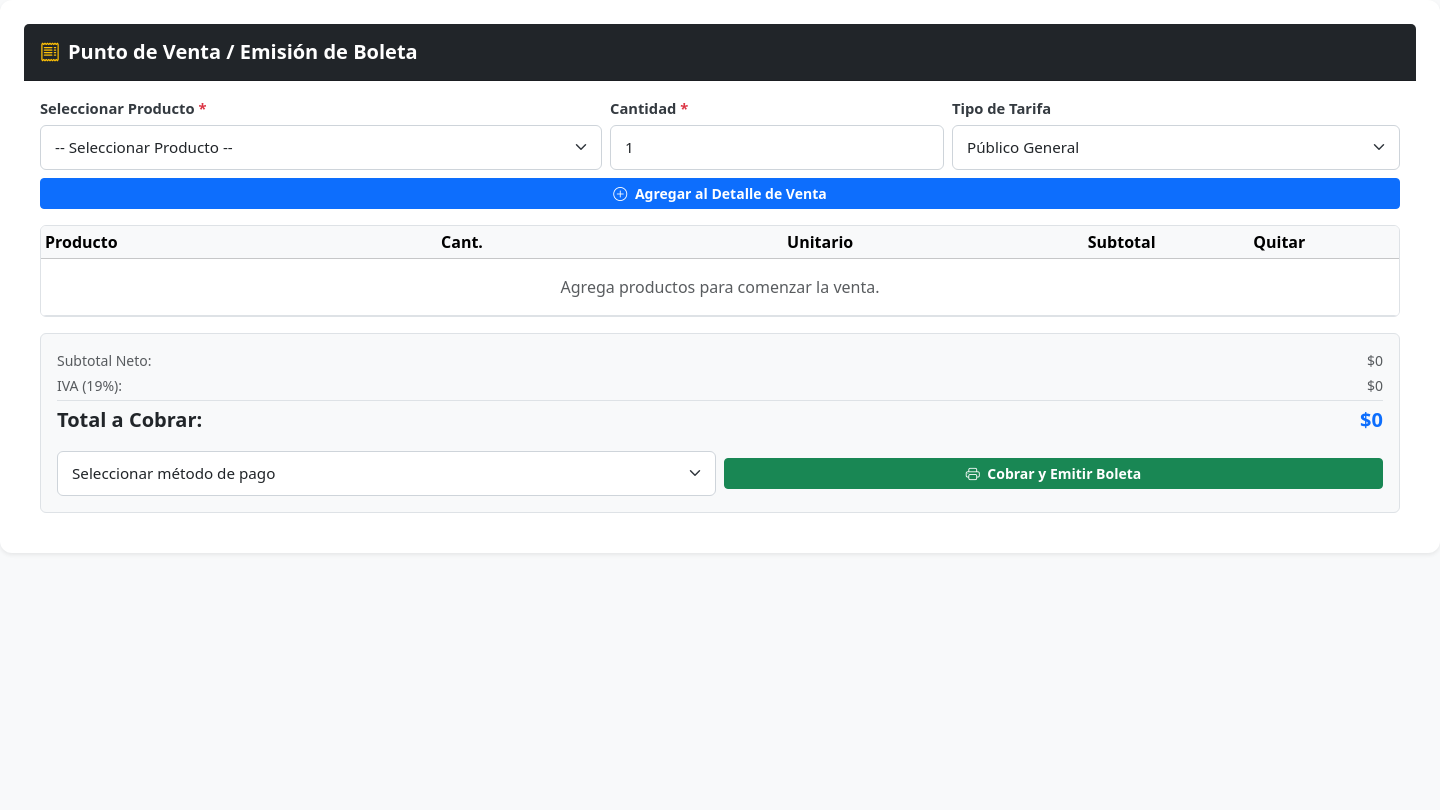
PuntoVenta › cobra la venta: descuenta stock, genera folio y persiste el pedido
This screenshot has width=1440, height=810.
Select "Martillo Profesional - Stock: 15" in the dropdown labelled "Seleccionar Producto *": (321, 148) [40,125,602,170]
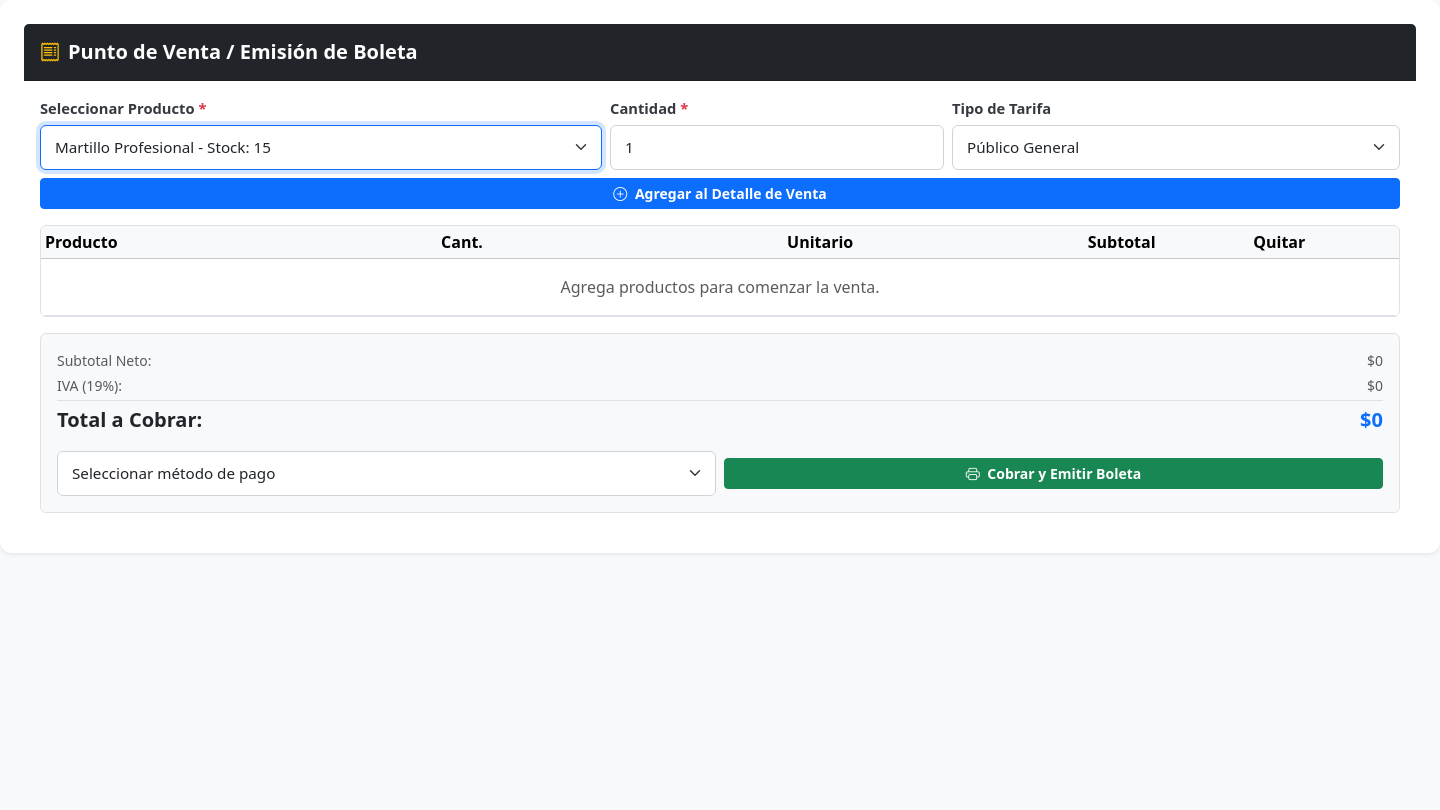
Replace the text in the number field labelled "Cantidad *" with "2": (777, 148) [610,125,944,170]
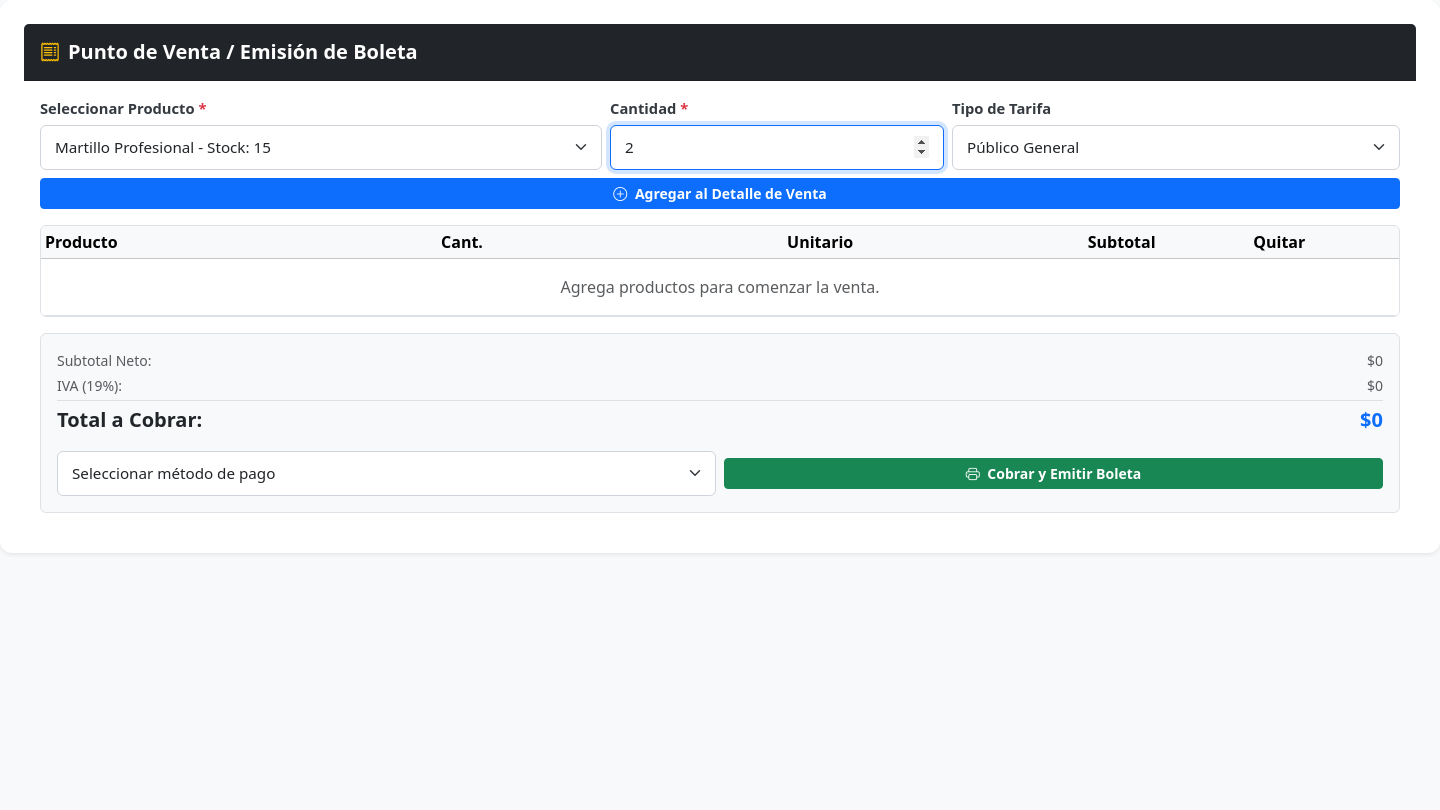
Click the button "Agregar al Detalle de Venta": click(720, 193) [40,178,1400,209]
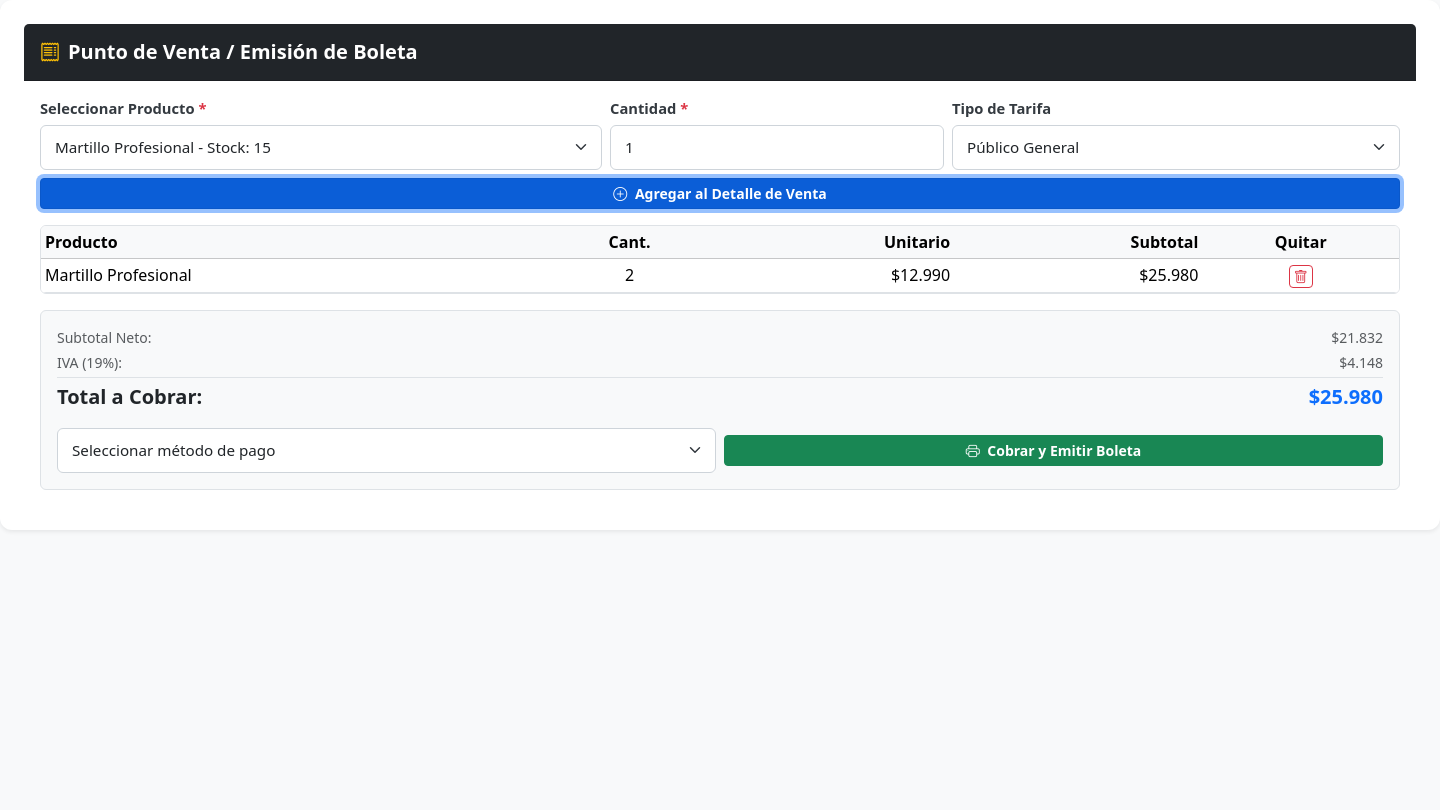
Select "Pago: Efectivo" in the dropdown with id "metodoPagoVenta": (386, 450) [57,428,716,473]
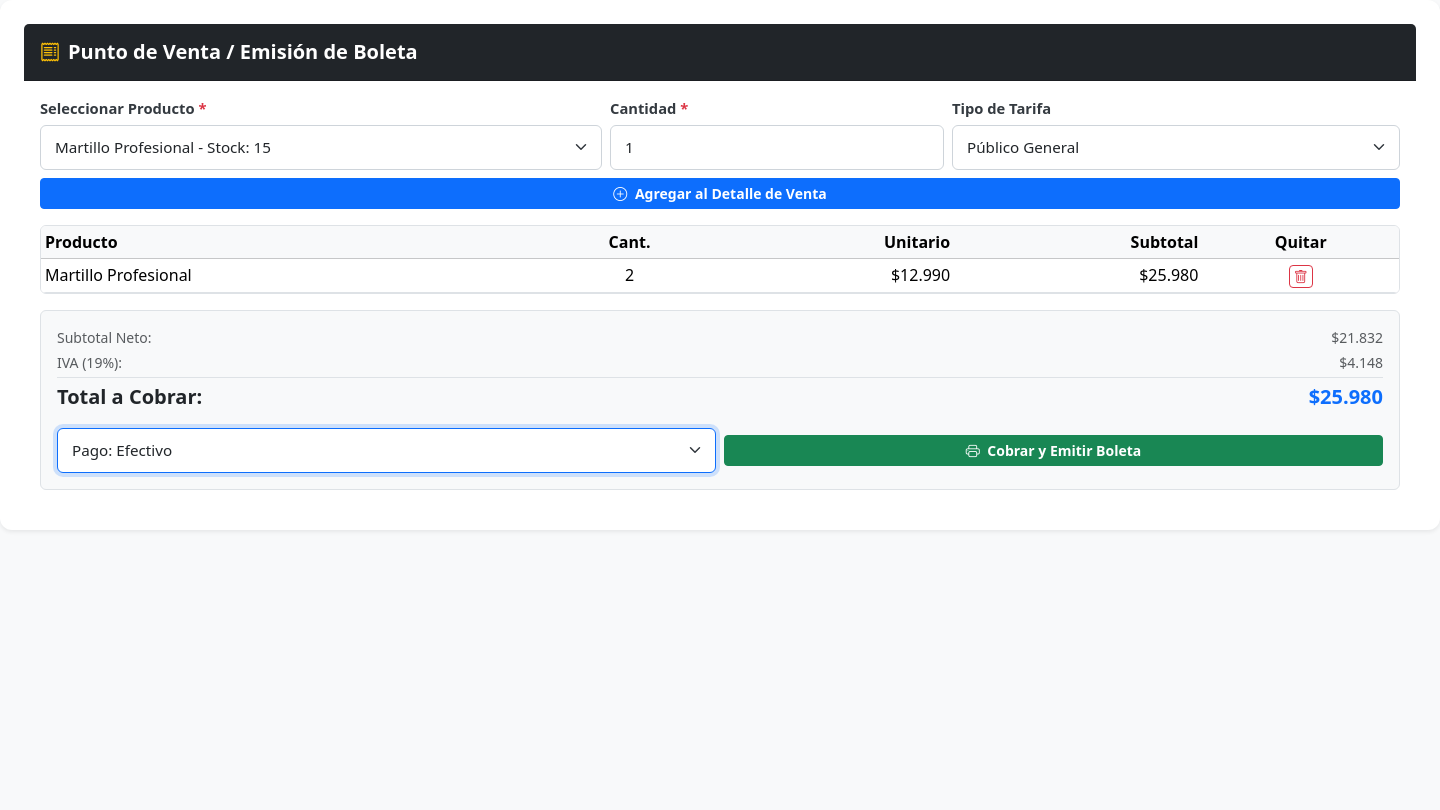
Click the button "Cobrar y Emitir Boleta": click(1054, 450) [724,435,1383,466]
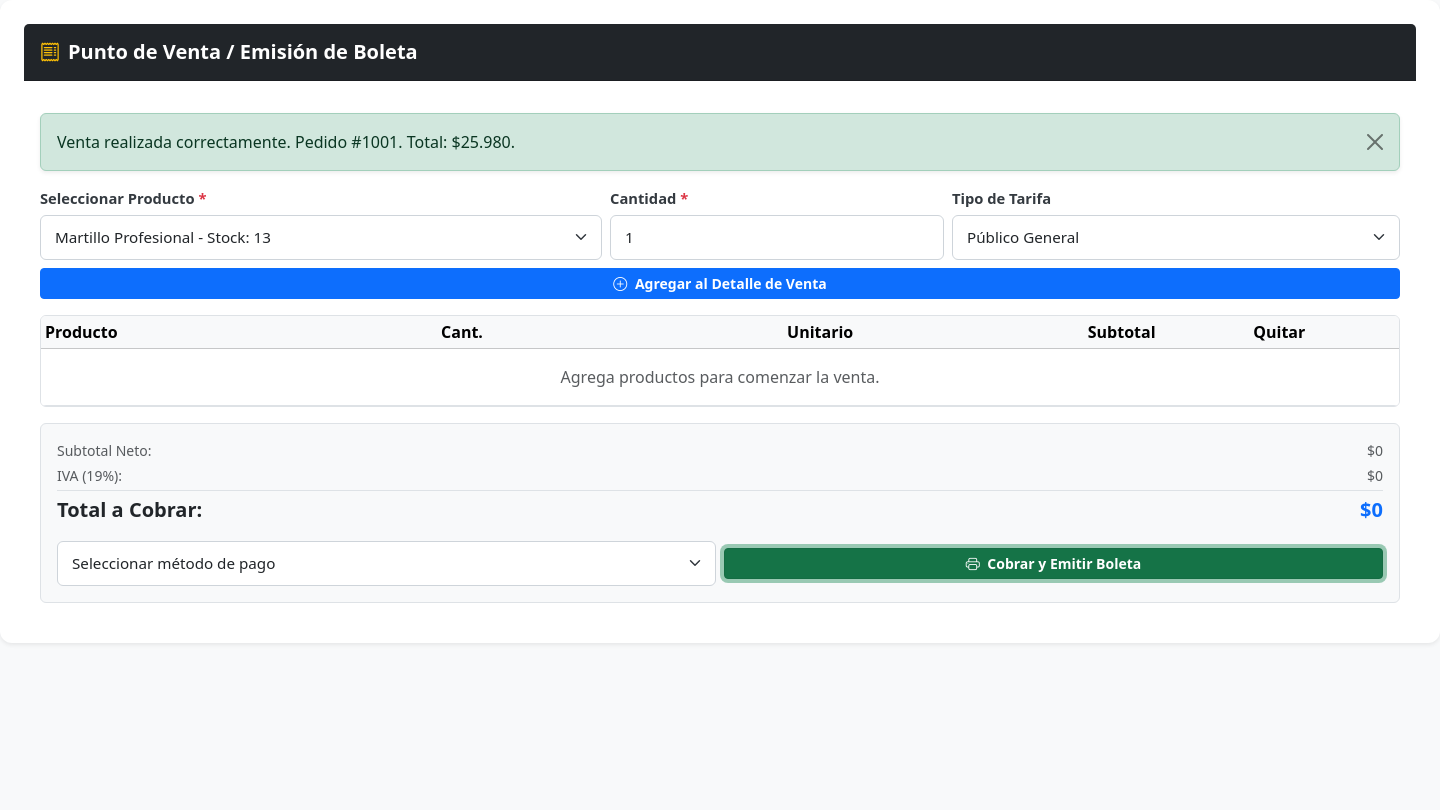
Expected: the text "Venta realizada correctamente. Pedido #1001. Total: $25.980." is shown, [57,131,515,153]
